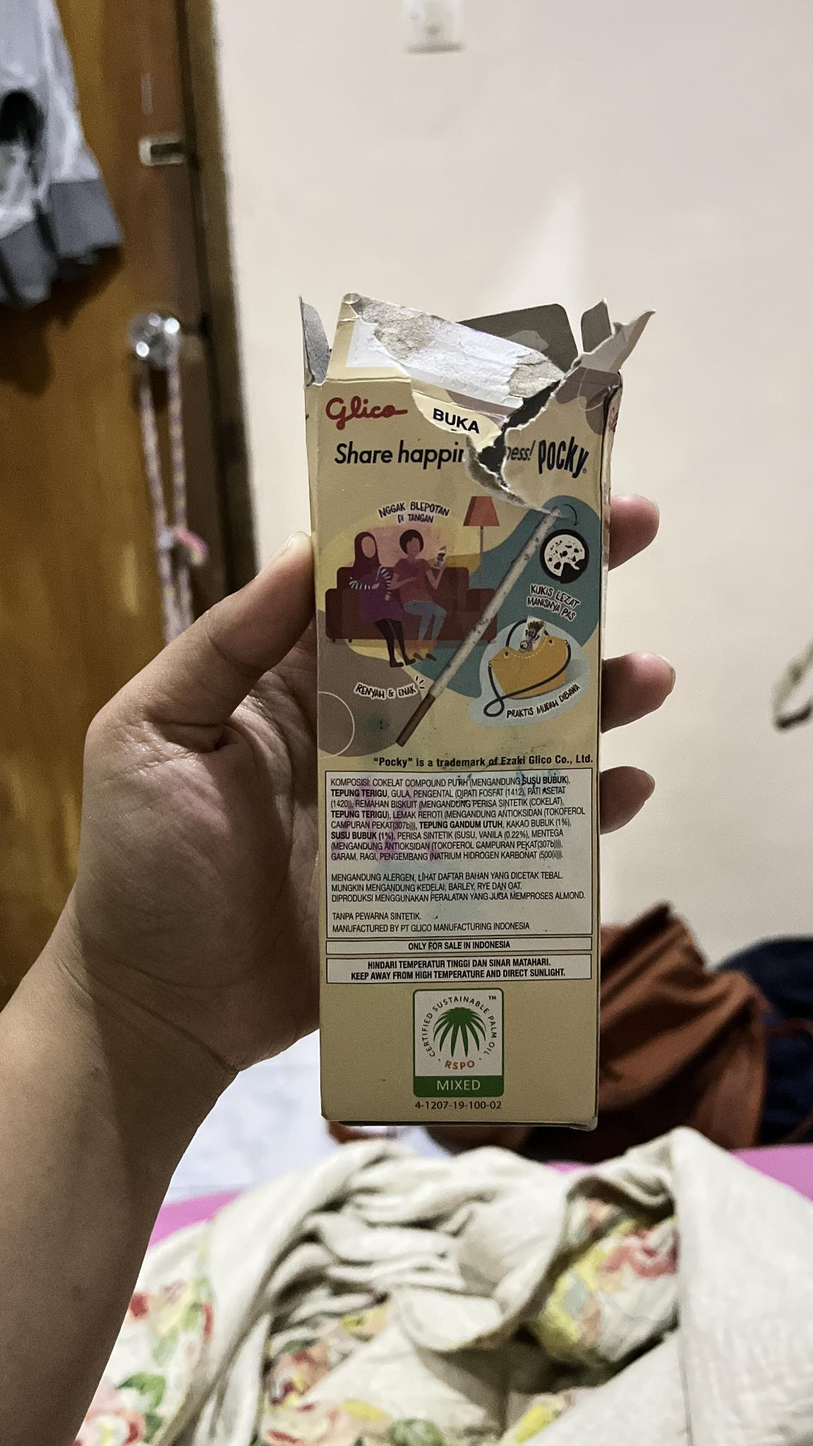Kertas: (308, 380, 617, 1133)
